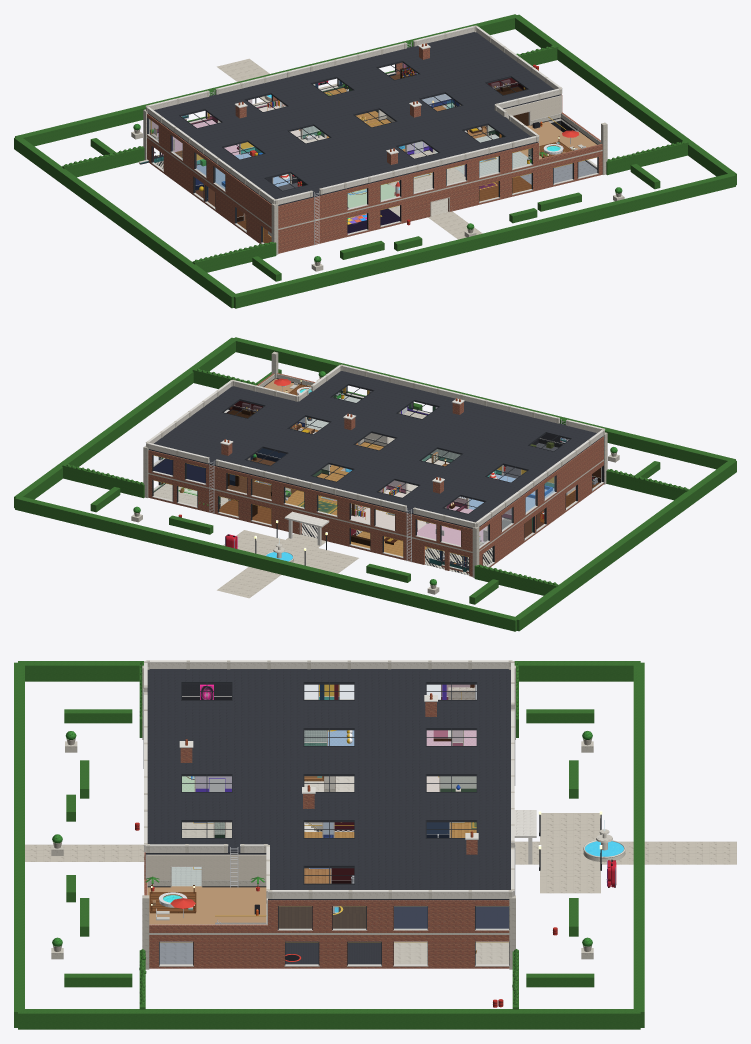
The model's file is mansion.glb.
3 renders of one model, top to bottom at view 1: azimuth 30°, elevation 25°; view 2: azimuth 150°, elevation 25°; view 3: azimuth 270°, elevation 25°, orthographic. The views are drawn at different scales.
Visible parts, largest first — view 1: object 1080, object 1097, box_88, object 108, box_82, box_95, box_96, object 109, box_101, object 1082, box_98, box_87 (+21 smaller); view 2: object 1080, object 1097, box_88, object 108, box_95, object 1079, box_96, box_101, box_82, object 109, object 1082, box_98 (+24 smaller); view 3: object 1080, box_88, object 1097, object 1079, box_95, box_82, box_96, box_101, object 108, object 109, box_98, object 1101 (+30 smaller).
Boxes of the visible parts, x1=… form: object 1080: x1=14, y1=14, x2=736, y2=308; object 1097: x1=139, y1=62, x2=602, y2=253; box_88: x1=177, y1=53, x2=529, y2=152; object 108: x1=147, y1=27, x2=562, y2=204; box_82: x1=148, y1=32, x2=486, y2=121; box_95: x1=220, y1=85, x2=561, y2=174; box_96: x1=232, y1=110, x2=507, y2=184; object 109: x1=145, y1=25, x2=562, y2=200; box_101: x1=262, y1=132, x2=538, y2=205; object 1082: x1=131, y1=30, x2=624, y2=271; box_98: x1=290, y1=146, x2=413, y2=184; box_87: x1=402, y1=40, x2=504, y2=73; object 1080: x1=14, y1=337, x2=736, y2=631; object 1097: x1=148, y1=373, x2=603, y2=576; box_88: x1=178, y1=408, x2=530, y2=507; object 108: x1=146, y1=366, x2=603, y2=527; box_95: x1=221, y1=386, x2=560, y2=475; object 1079: x1=217, y1=530, x2=358, y2=598; box_96: x1=299, y1=392, x2=573, y2=466; box_101: x1=329, y1=371, x2=602, y2=444; box_82: x1=148, y1=439, x2=488, y2=528; object 109: x1=145, y1=364, x2=605, y2=523; object 1082: x1=131, y1=351, x2=619, y2=594; box_98: x1=422, y1=406, x2=545, y2=445; object 1080: x1=14, y1=661, x2=644, y2=1029; box_88: x1=355, y1=669, x2=425, y2=900; object 1097: x1=144, y1=852, x2=509, y2=968; object 1079: x1=25, y1=813, x2=736, y2=893; box_95: x1=268, y1=669, x2=303, y2=900; box_82: x1=477, y1=669, x2=510, y2=900; box_96: x1=232, y1=669, x2=267, y2=854; box_101: x1=145, y1=669, x2=180, y2=854; object 108: x1=144, y1=662, x2=513, y2=898; object 109: x1=144, y1=660, x2=514, y2=892; box_98: x1=181, y1=700, x2=232, y2=776; object 1101: x1=279, y1=685, x2=508, y2=928.
Size of what is drawn, in the model's own units: 123 by 15.33 by 106.
648 materials, 305 textured.
